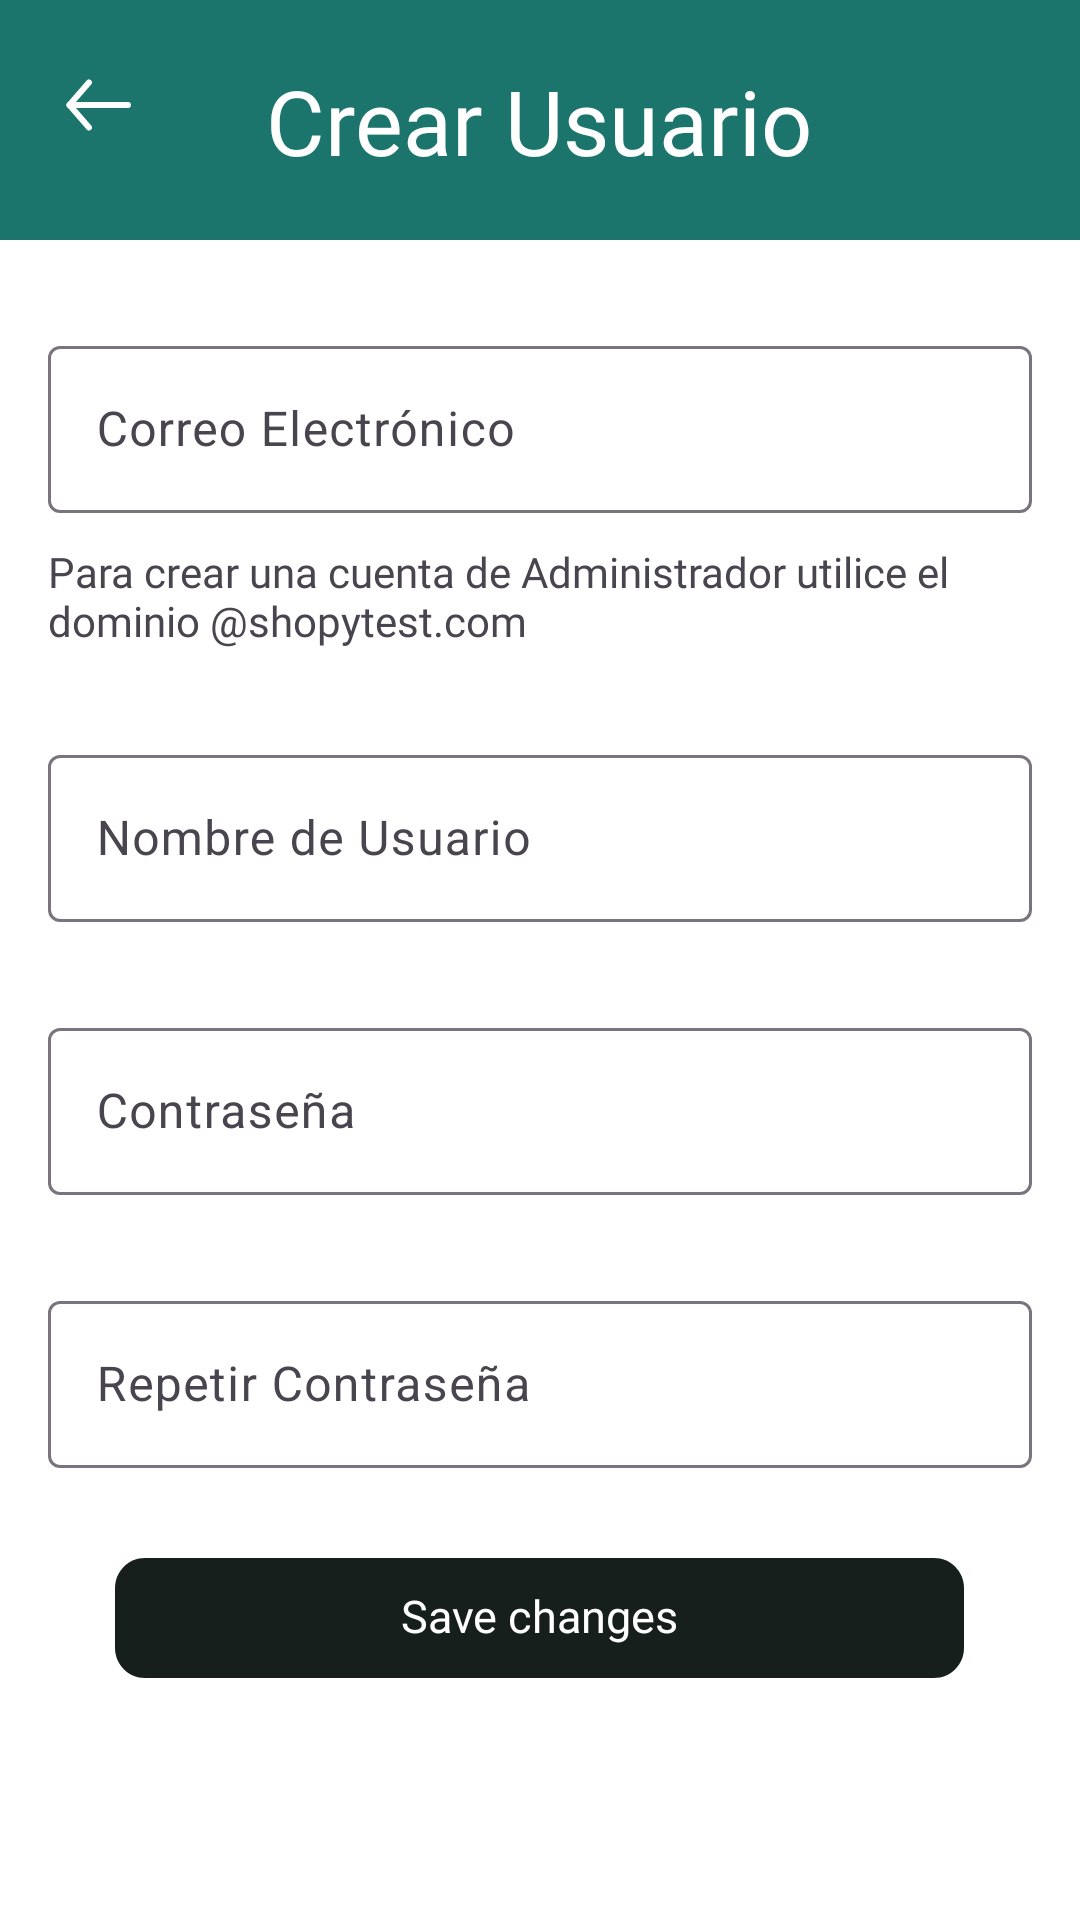

Named icons in this screenshot (1080 x 1920) and their centers, (x=x, y=y):
volverperfil: (x=98, y=105)
